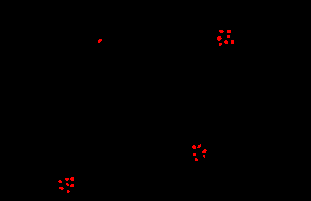Target: (217, 36, 222, 41), (202, 149, 207, 153), (98, 39, 102, 43), (224, 40, 228, 44), (197, 144, 201, 148), (192, 145, 196, 149), (70, 177, 74, 181), (219, 30, 224, 33), (59, 187, 64, 190), (227, 30, 231, 33), (231, 40, 234, 44), (65, 178, 69, 181), (58, 180, 62, 183), (70, 184, 74, 187), (227, 35, 230, 38), (219, 43, 222, 46), (193, 153, 196, 156), (195, 158, 198, 161), (66, 183, 69, 186), (67, 190, 70, 193), (203, 155, 205, 158)
